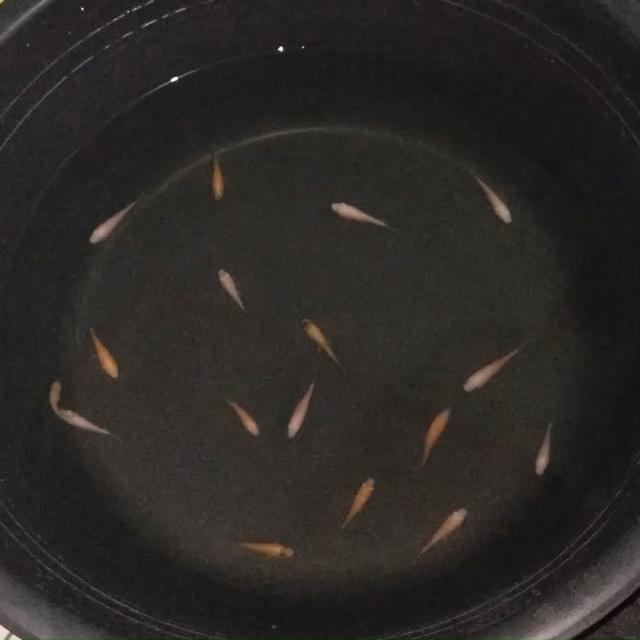nila: (462, 340, 532, 394), (86, 194, 142, 247), (416, 506, 472, 558), (328, 198, 406, 235), (298, 316, 350, 368), (337, 474, 378, 536), (474, 173, 519, 229), (53, 406, 118, 440), (420, 405, 452, 471), (288, 379, 318, 442), (89, 320, 124, 374), (218, 266, 254, 318), (224, 395, 266, 438), (234, 534, 300, 560), (532, 417, 559, 480), (208, 142, 228, 198), (48, 373, 66, 421)
